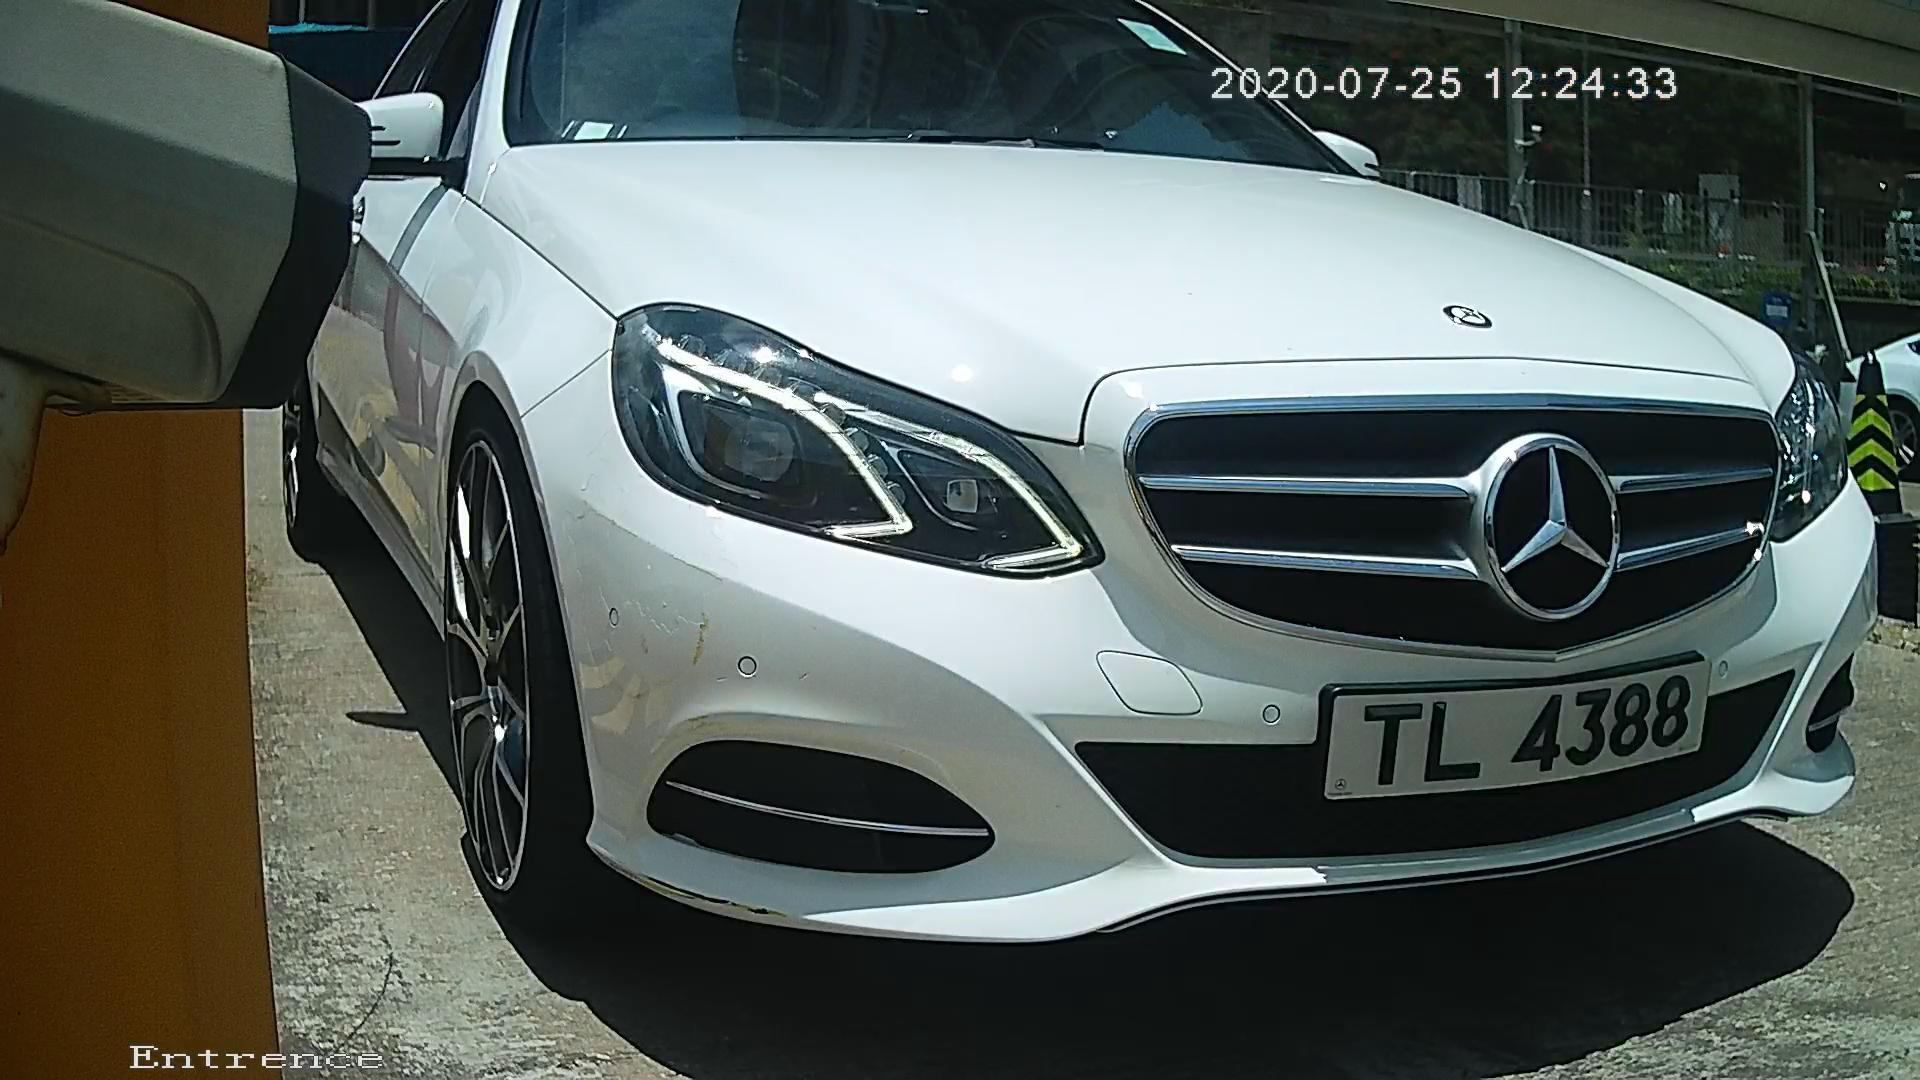License Plate: (1303, 637, 1732, 815)
